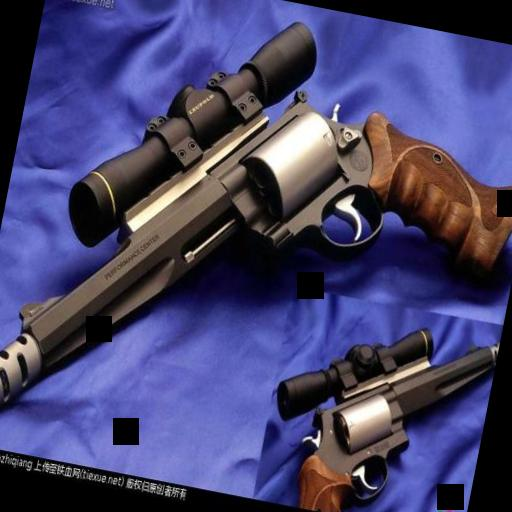Handgun: (0, 11, 512, 506), (256, 308, 498, 512)
